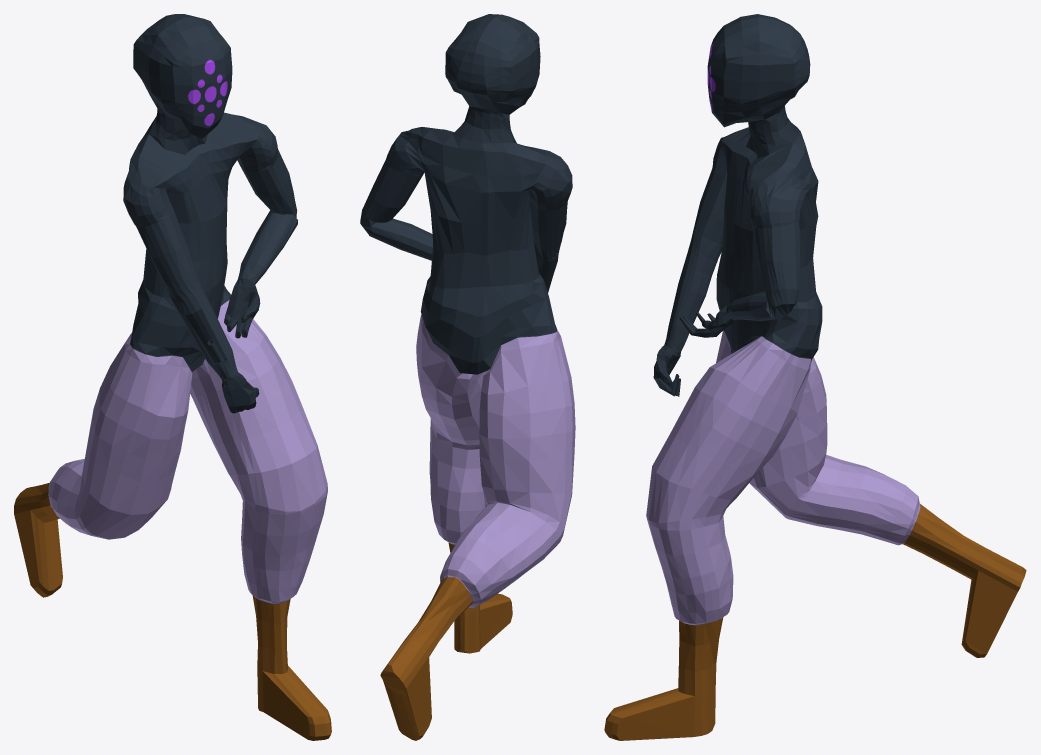
Rendered from Oracle_Run_000002.obj.
The picture shows the model from 3 angles, left to right: view 1: azimuth 30°, elevation 25°; view 2: azimuth 150°, elevation 25°; view 3: azimuth 270°, elevation 25°; orthographic projection. The views are drawn at different scales.
Parts seen in each view (by area): view 1: Cube; view 2: Cube; view 3: Cube.
Part boxes in pixels (x1=…): Cube: x1=14, y1=14, x2=331, y2=740; Cube: x1=360, y1=14, x2=575, y2=740; Cube: x1=604, y1=14, x2=1026, y2=740.
Bounding box in the file's own units: 1.21 × 3.75 × 2.09.
